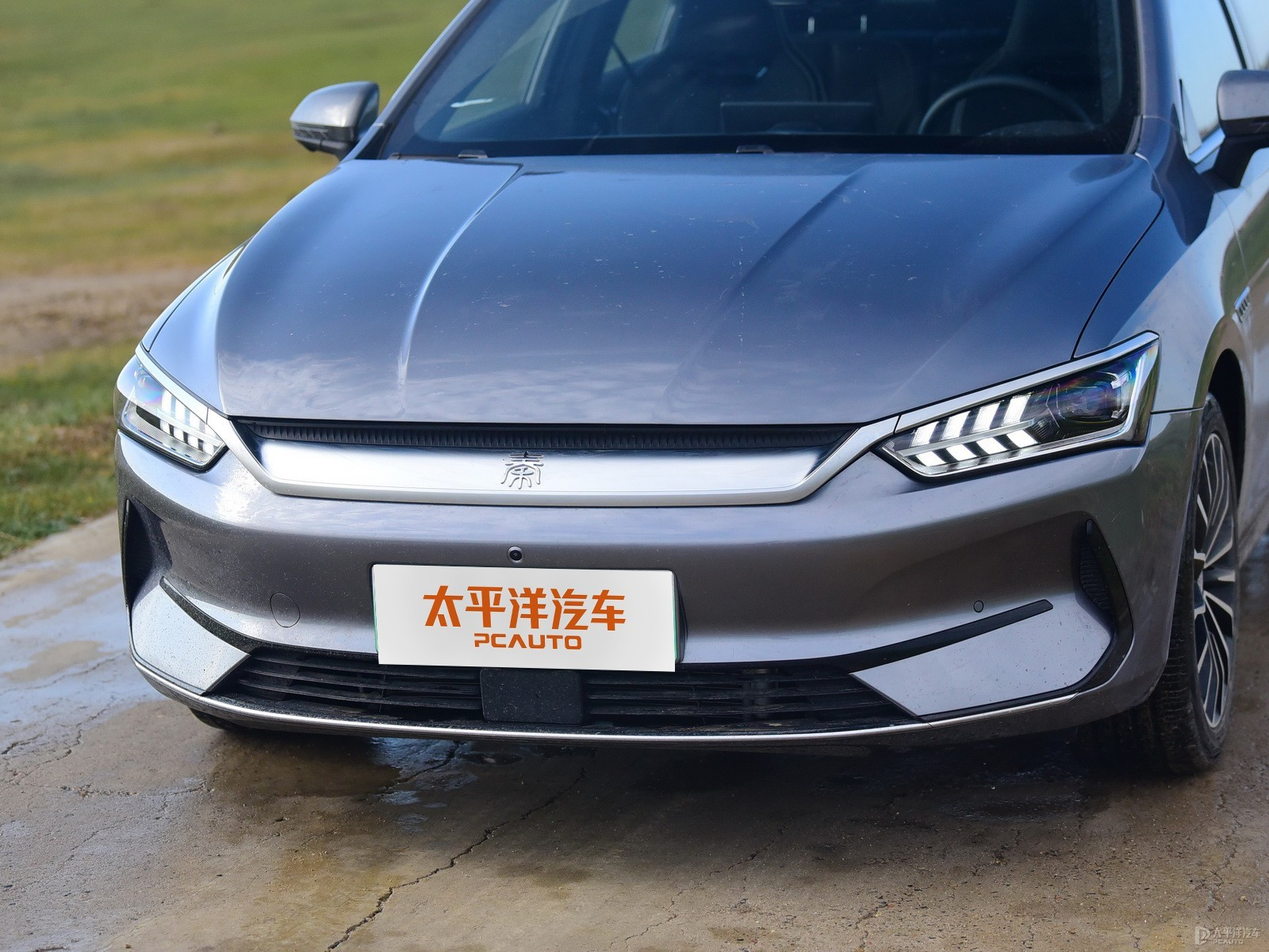BYD Qin: (501, 452, 543, 489)
